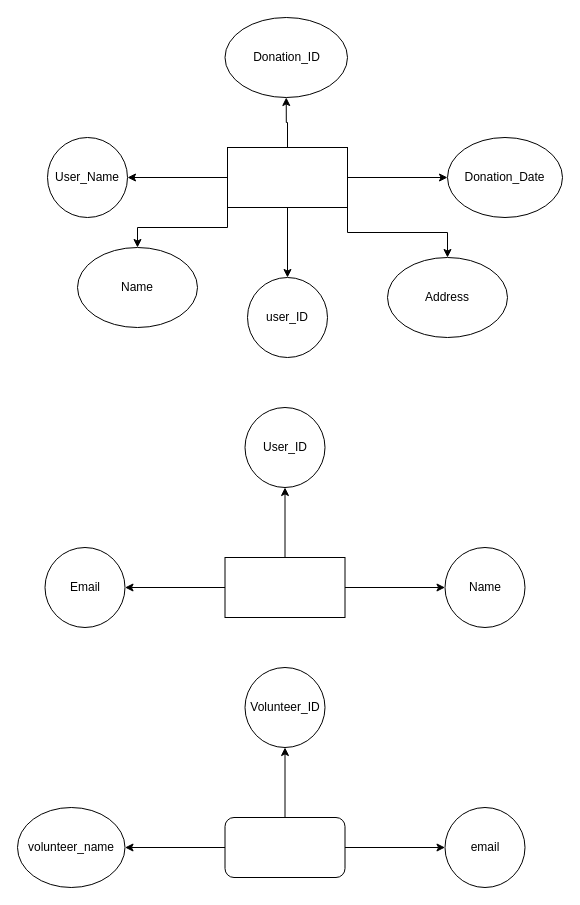
Image size: 580x905. Some labels were removed from this diagram. The shapes that lost their labels are listed below. From the top down, each one's centre as x and y in pixels, then its label:
pixel 287 177: Donation
pixel 284 587: User
pixel 284 847: Volunteer
